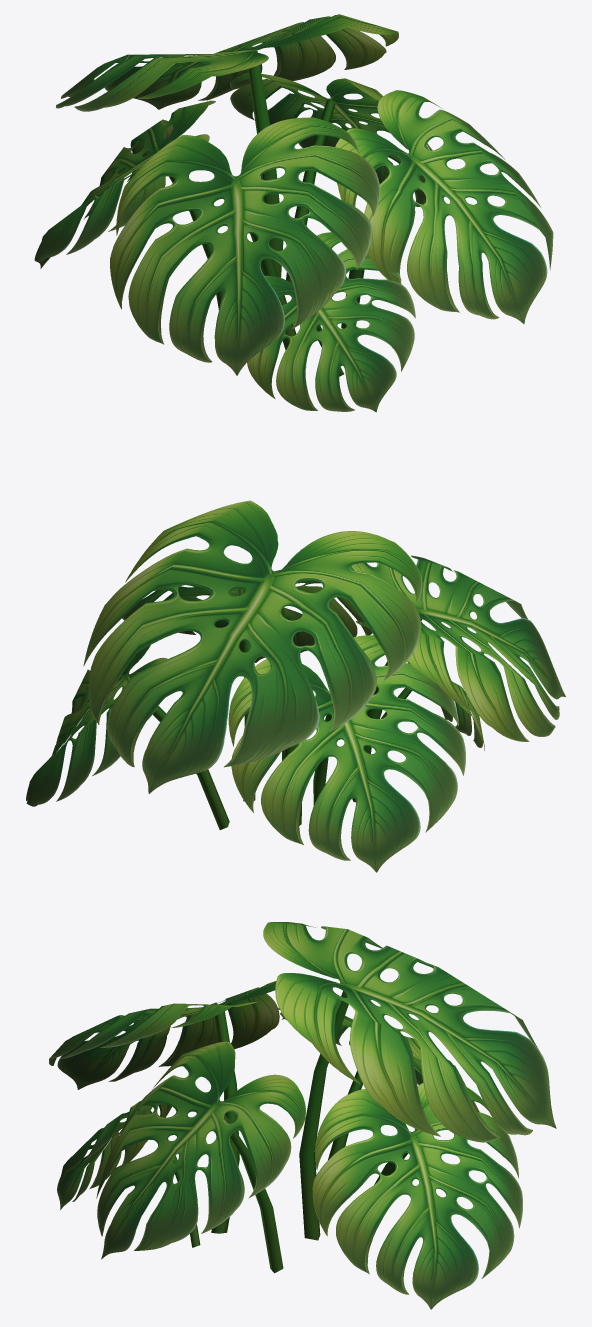
Rendered from MonsteraPlant.fbx.
3 views of the same model, one above another, from view 1: azimuth 30°, elevation 25°; view 2: azimuth 150°, elevation 25°; view 3: azimuth 270°, elevation 25° (orthographic). The views are drawn at different scales.
Visible parts, largest first — view 1: Plane.007, Plane.006, Plane.009, Plane, Plane.004, Plane.008, Cube, Cube.006; view 2: Plane, Plane.004, Plane.007, Plane.008, Plane.006, Plane.009, Cube.006; view 3: Plane, Plane.008, Plane.006, Plane.007, Plane.009, Cube, Cube.004, Cube.005, Plane.004.
Part boxes in pixels (x1,y1,x2,y2): Plane.007: (110, 117, 380, 375); Plane.006: (335, 90, 553, 323); Plane.009: (247, 232, 415, 412); Plane: (56, 14, 398, 111); Plane.004: (34, 100, 215, 268); Plane.008: (230, 73, 432, 206); Cube: (248, 51, 283, 277); Cube.006: (286, 100, 335, 283); Plane: (83, 500, 422, 793); Plane.004: (228, 635, 465, 872); Plane.007: (350, 555, 565, 741); Plane.008: (26, 645, 167, 806); Plane.006: (122, 570, 372, 662); Plane.009: (355, 621, 484, 750); Cube.006: (152, 706, 229, 829); Plane: (263, 922, 556, 1142); Plane.008: (312, 1083, 522, 1309); Plane.006: (96, 1041, 305, 1259); Plane.007: (49, 981, 283, 1089); Plane.009: (57, 1101, 171, 1209); Cube: (299, 991, 348, 1240); Cube.004: (224, 1114, 283, 1273); Cube.005: (211, 1011, 239, 1233); Plane.004: (278, 1007, 479, 1112).
Size of the model in its own units: 86.91 by 61.56 by 102.
2 materials, 2 textured.
